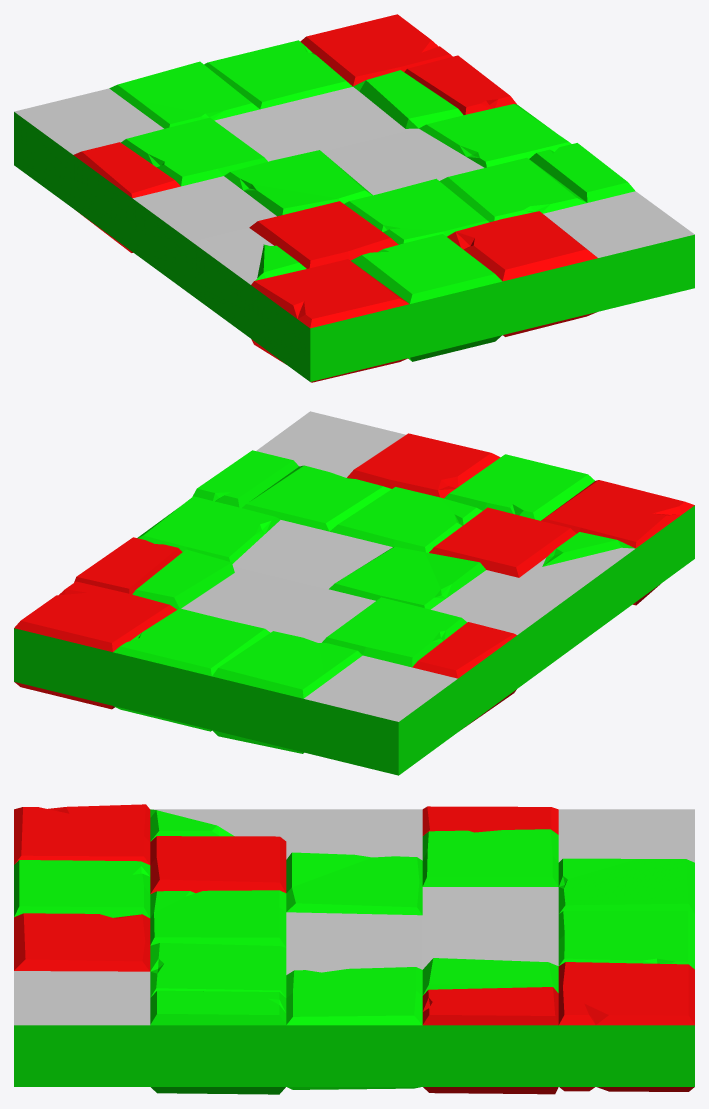
Rendered from SM_Floor_1_2.fbx.
3 views of the same model, one above another, from view 1: azimuth 30°, elevation 25°; view 2: azimuth 150°, elevation 25°; view 3: azimuth 270°, elevation 25° (orthographic). The views are drawn at different scales.
Visible parts, largest first — view 1: Mesh; view 2: Mesh; view 3: Mesh.
Boxes of the visible parts, left/top/right/bottom form: Mesh: left=14, top=14, right=694, bottom=382; Mesh: left=14, top=411, right=694, bottom=775; Mesh: left=14, top=804, right=694, bottom=1094.
Bounding box in the file's own units: 300 × 53.56 × 400.
